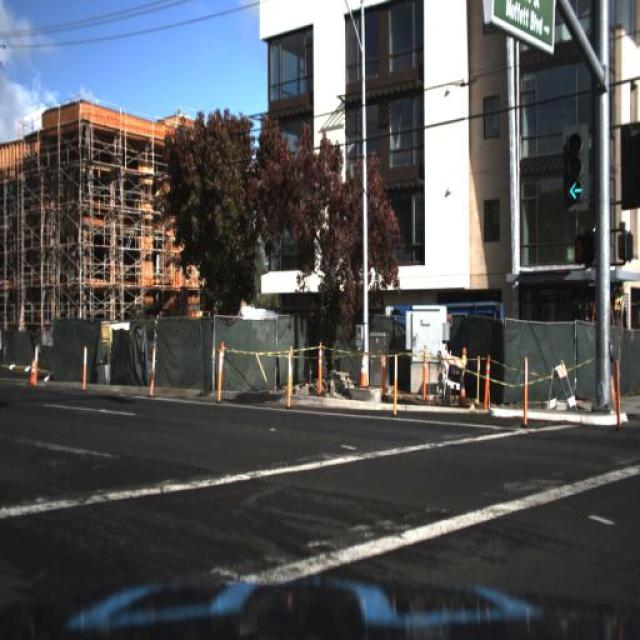trafficLight-GreenLeft: (561, 122, 591, 212)
